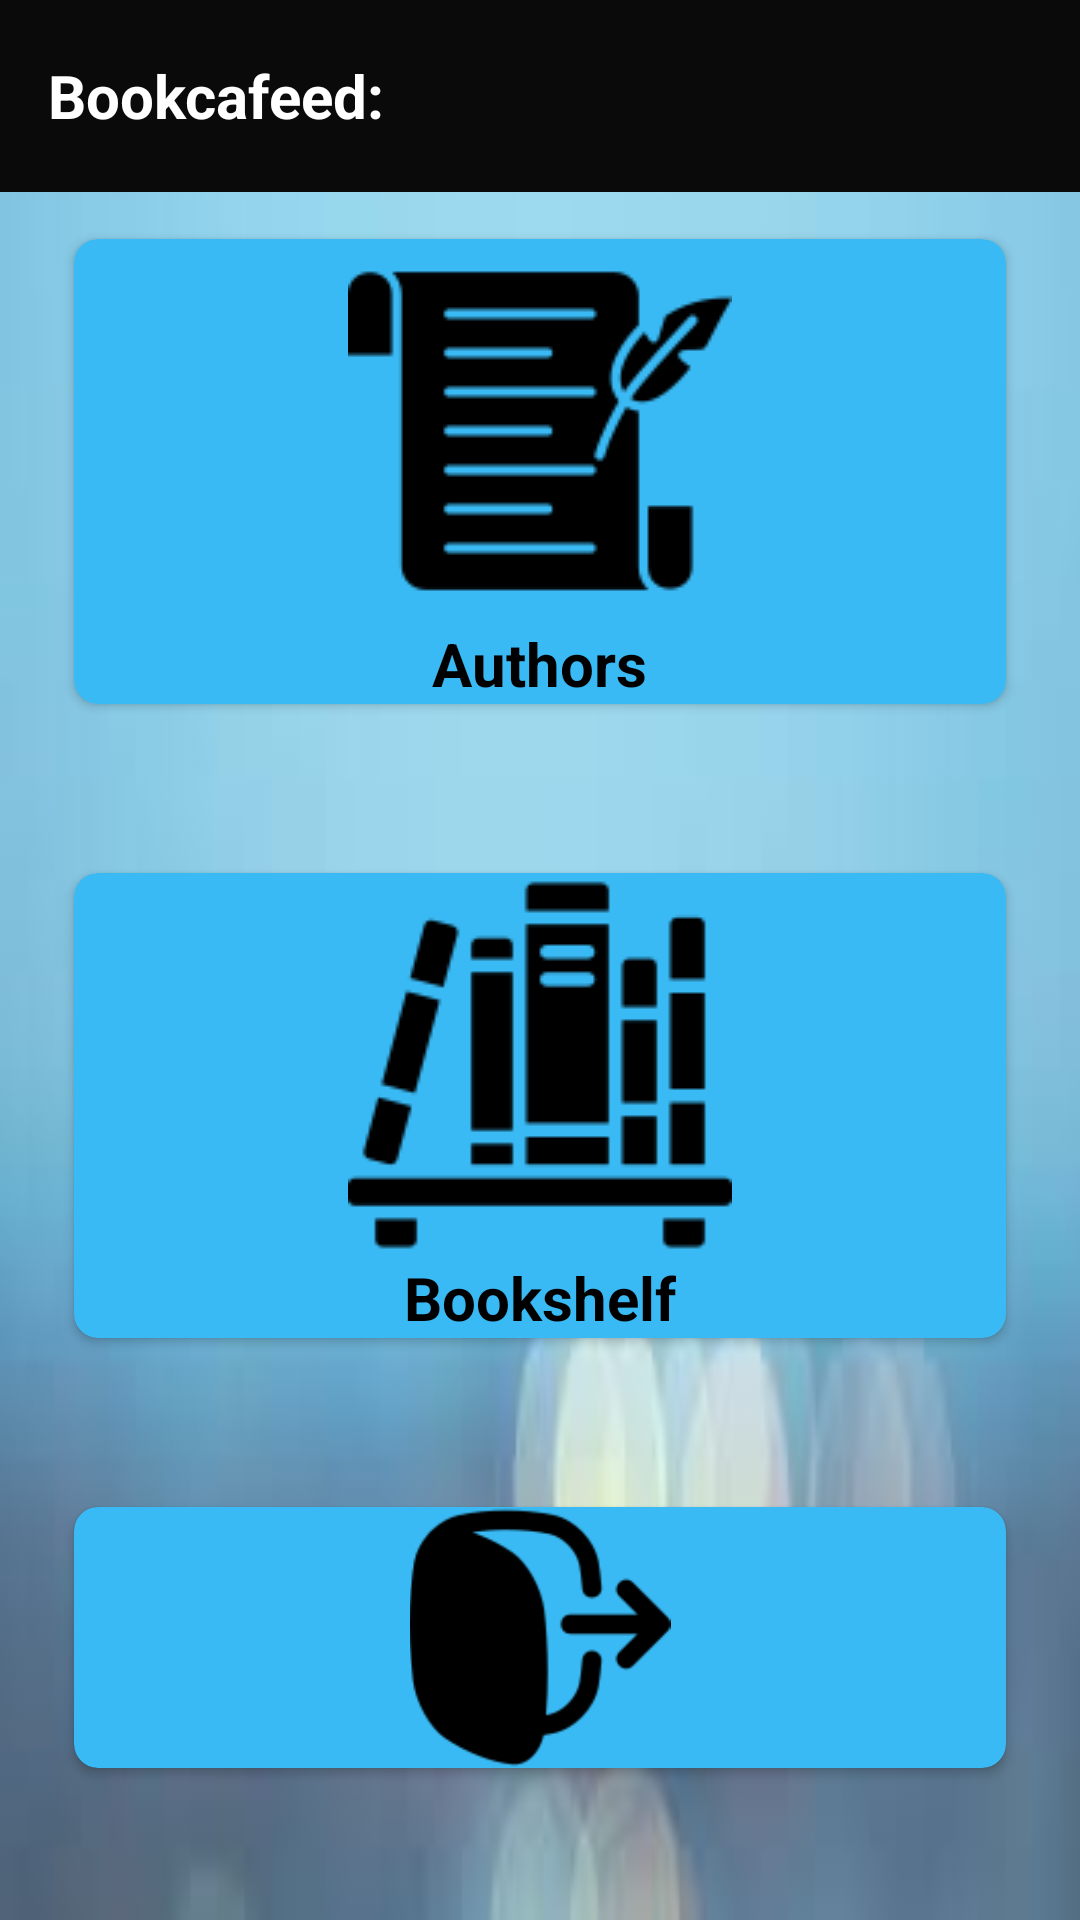

Screen size 1080*1920. Icon name, then its center in pixels as point (x, y):
out: point (540, 1637)
